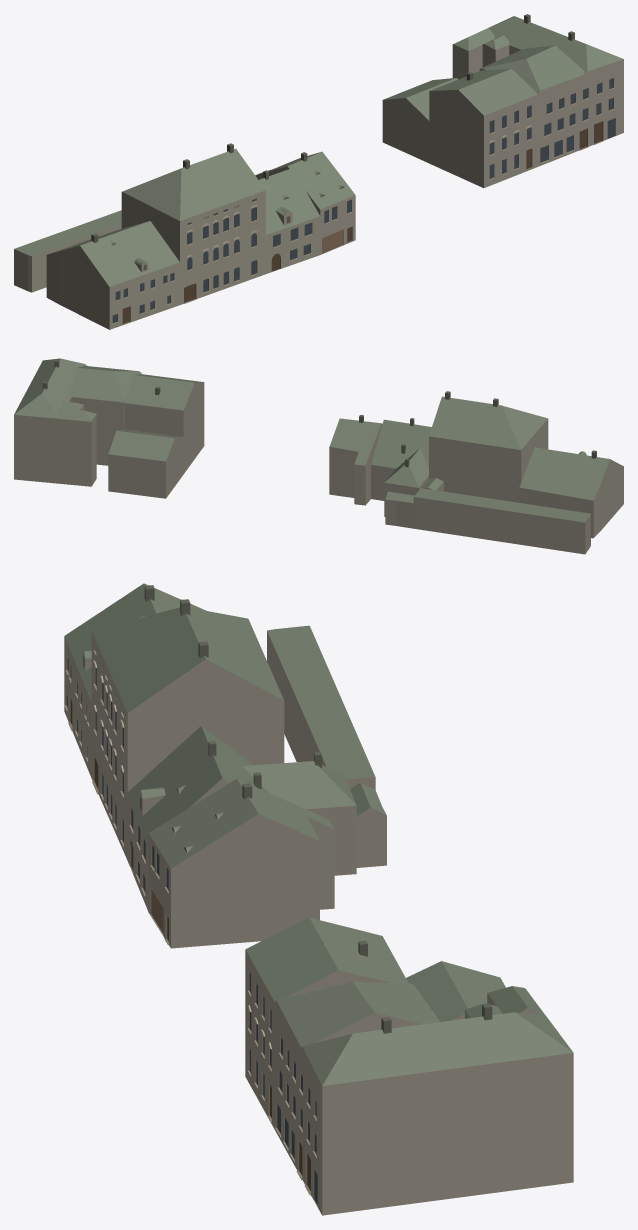
Rendered from gpt-v1.glb.
The picture shows the model from 3 angles, top to bottom: view 1: azimuth 30°, elevation 25°; view 2: azimuth 150°, elevation 25°; view 3: azimuth 270°, elevation 25°; orthographic projection. The views are drawn at different scales.
Visible parts, largest first — view 1: body, front; view 2: body; view 3: body, front.
Part boxes in pixels (<box>): body: <box>14,14,623,329</box>; front: <box>109,59,623,329</box>; body: <box>14,358,623,554</box>; body: <box>64,583,573,1215</box>; front: <box>64,631,322,1215</box>.
Bounding box in the file's own units: 106 × 19.35 × 43.45.
